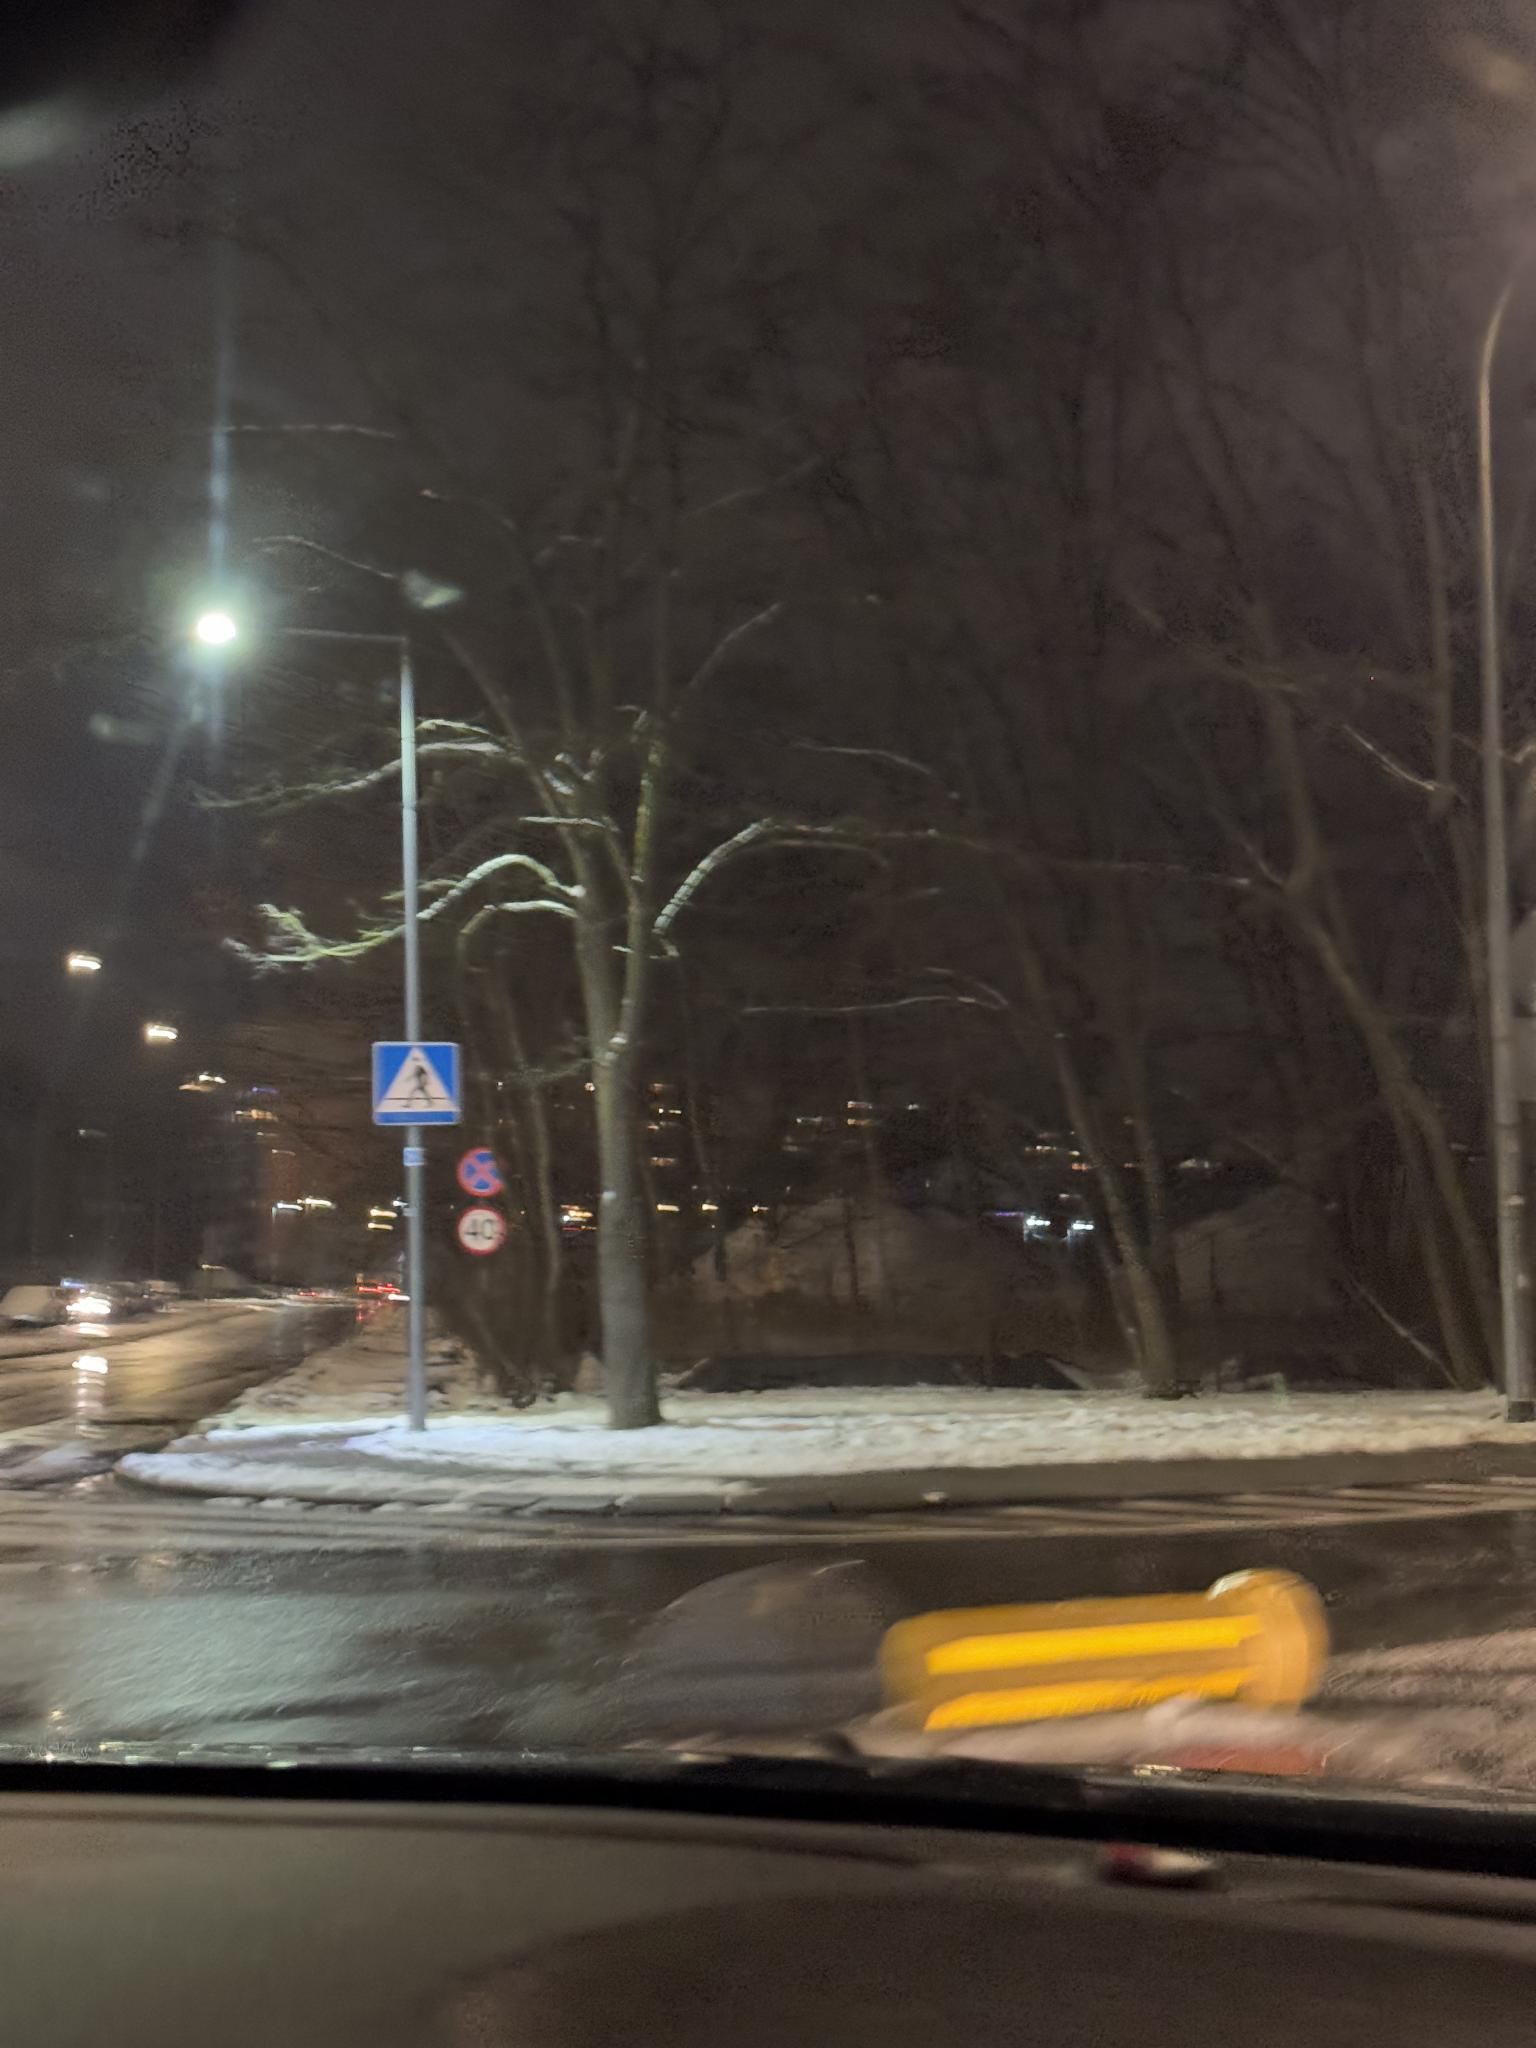information: (373, 1040, 461, 1126)
prohibitory: (455, 1143, 507, 1197), (457, 1206, 508, 1255)
